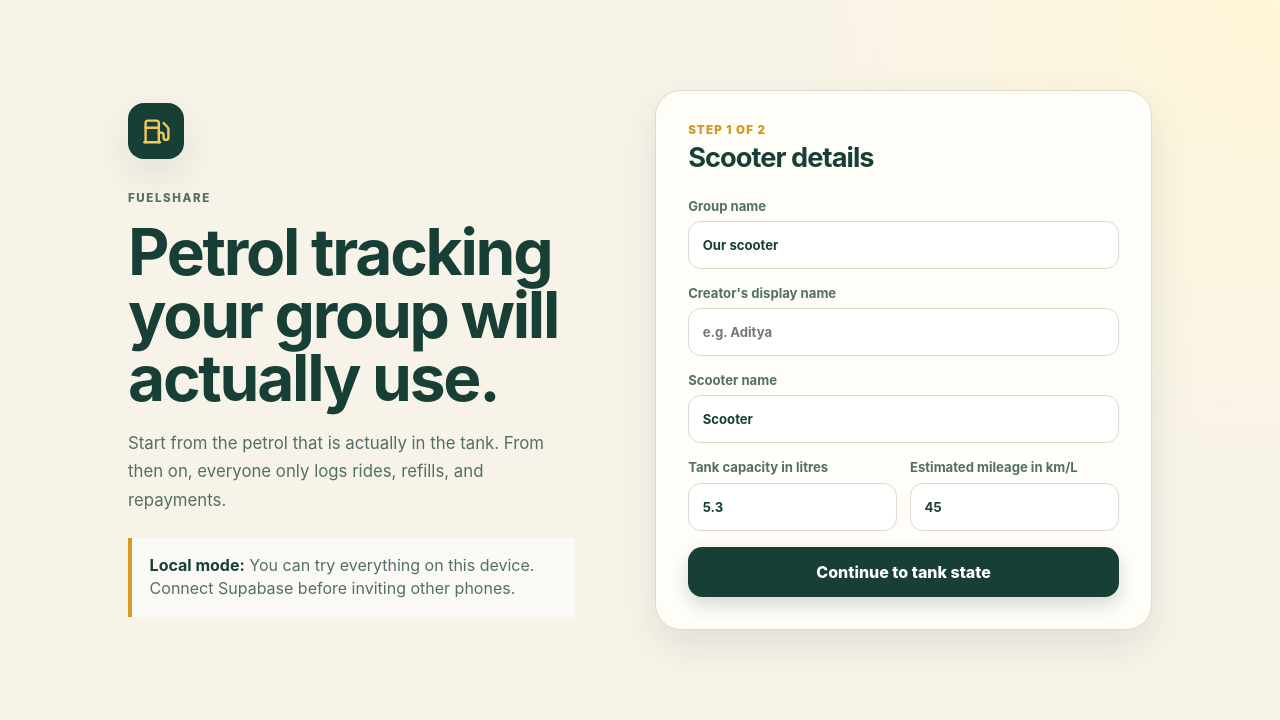
Test case: FuelShareApp › shows the two-step opening tank onboarding
The image size is (1280, 720).
Check: the heading "Petrol tracking your group will actually use." is shown, box [128,221,575,410]
Check: the heading "Scooter details" is shown, box [688,141,874,174]
Type "Alice" into the field labelled "Creator's display name" at (904, 332), box [688,308,1119,356]
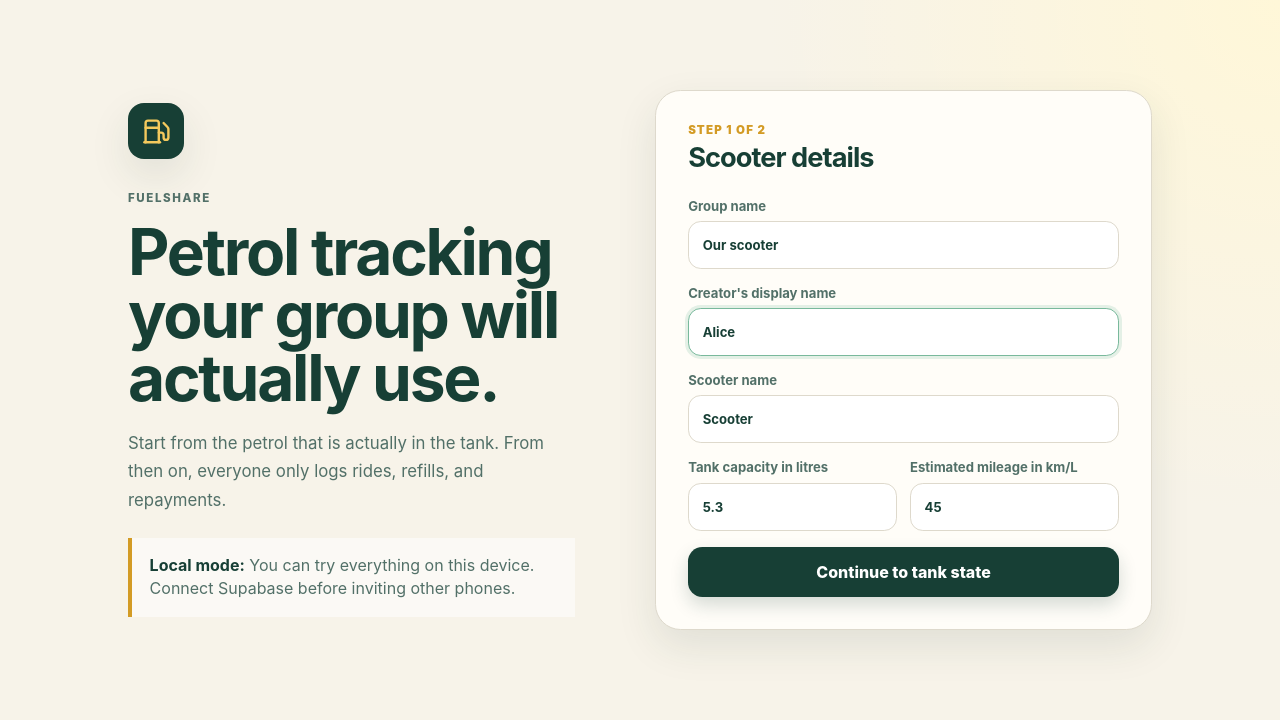
Click the button "Continue to tank state" at (904, 572), box [688,547,1119,597]
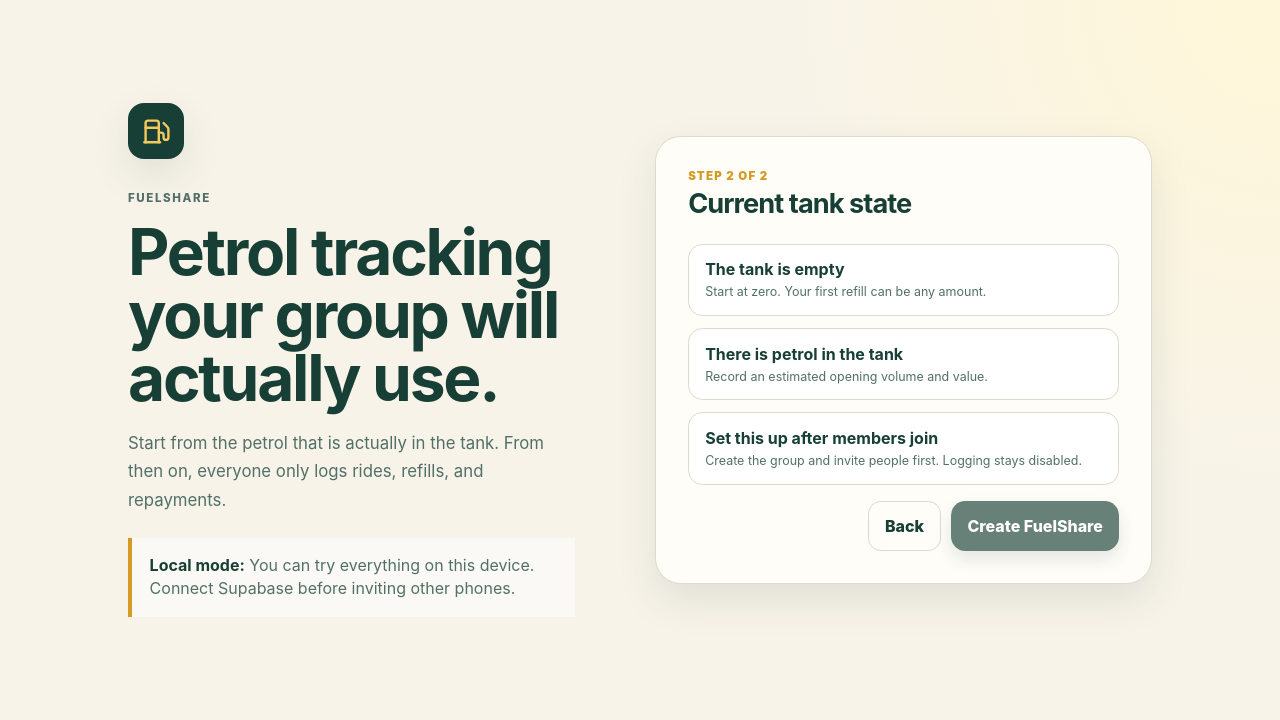
Check: the heading "Current tank state" is shown, box [688,187,911,220]
Check: the radio button labelled "The tank is empty" is shown, box [688,244,1119,316]
Check: the radio button labelled "There is petrol in the tank" is shown, box [688,328,1119,400]
